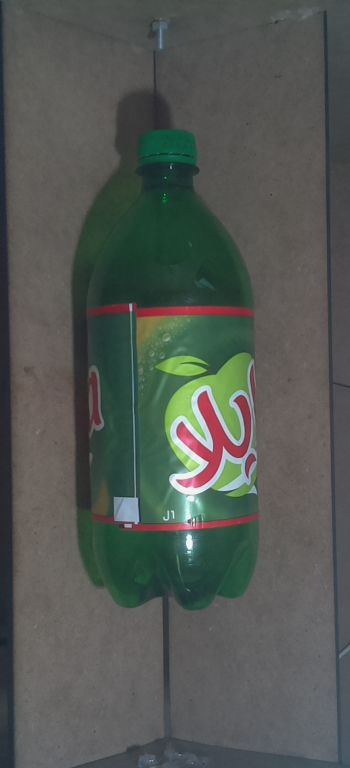Bouteille_1L: (77, 123, 267, 616)
